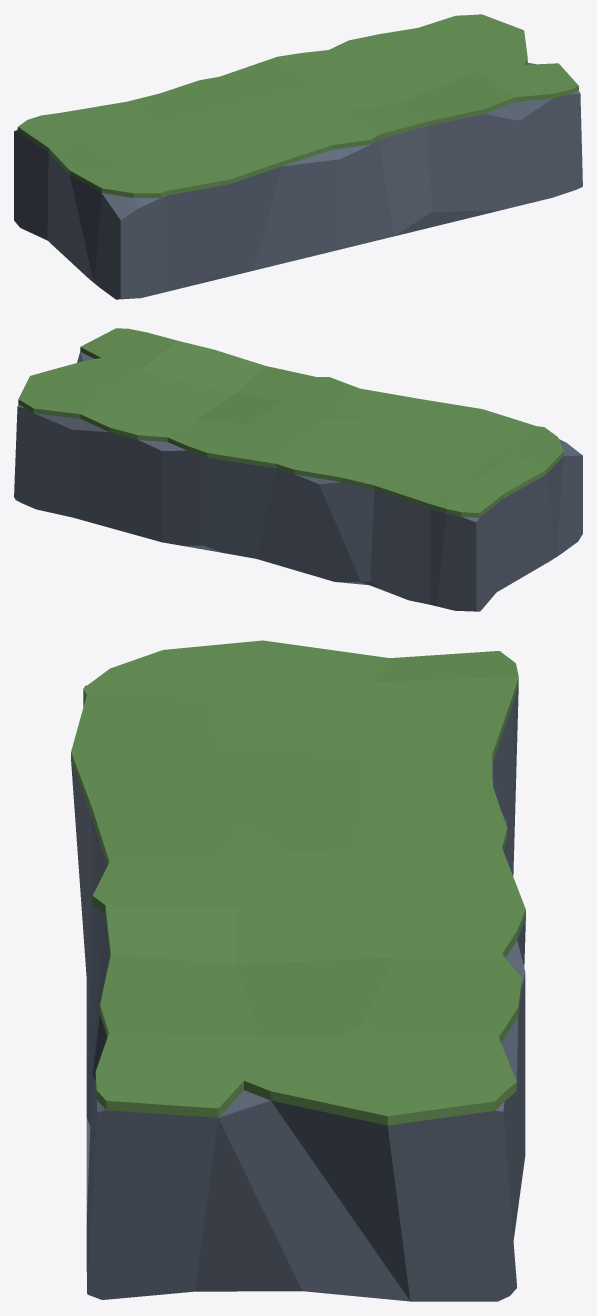
The model's file is StonePlatform(10x4x2).fbx.
The picture shows the model from 3 angles, top to bottom: view 1: azimuth 30°, elevation 25°; view 2: azimuth 150°, elevation 25°; view 3: azimuth 270°, elevation 25°; orthographic projection. The views are drawn at different scales.
Parts seen in each view (by area): view 1: rock; view 2: rock; view 3: rock.
Boxes of the visible parts, x1,y1,x2,y2 form: rock: (14,14,582,299); rock: (14,328,582,611); rock: (71,640,525,1301).
Bounding box in the file's own units: 1051 × 215 × 427.
